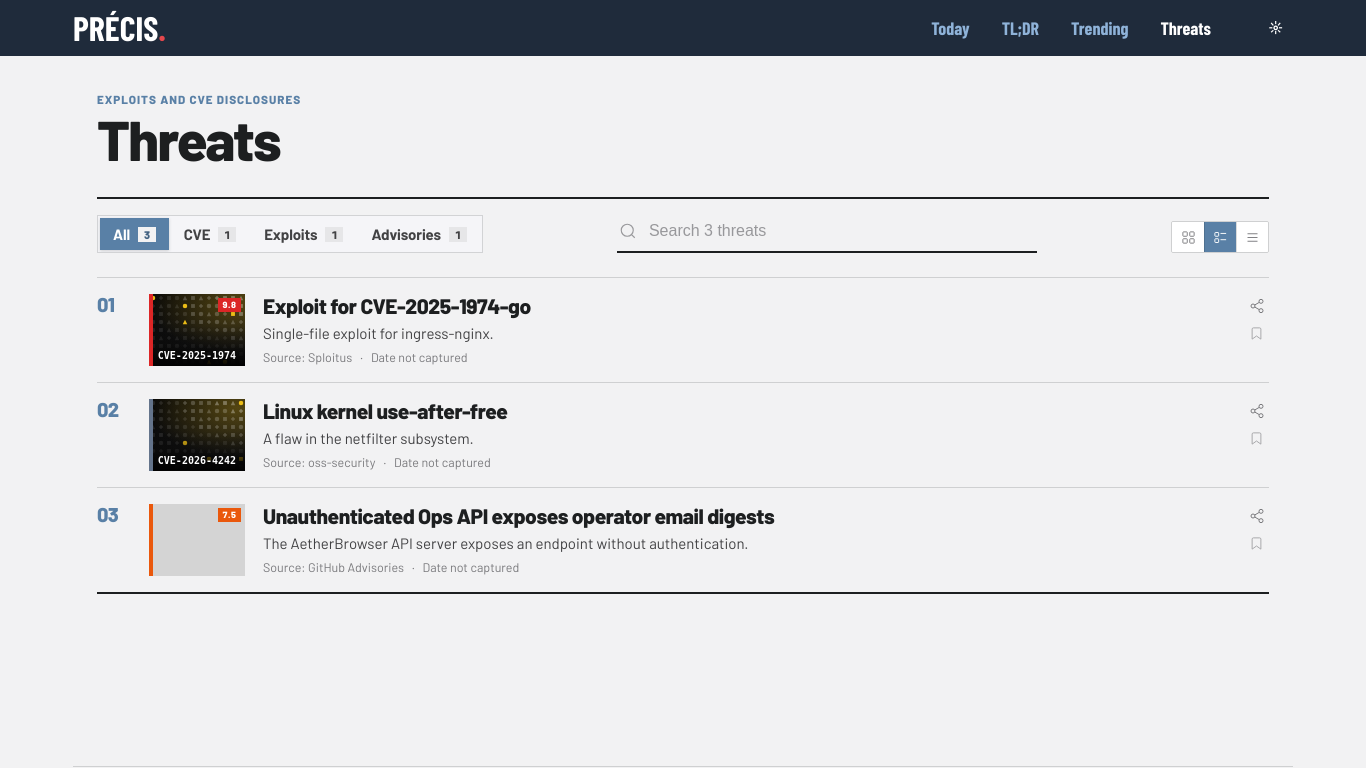
Test: ThreatsPage search › opens on the list layout and switches to cards and small list
Expected: the link "Linux kernel use-after-free" is shown, [263,398,508,423]
Expected: the element with class "brief-list" is shown, [97,277,1269,594]
Click the button named "Cards" at [1188, 237], box [1172,222,1204,252]
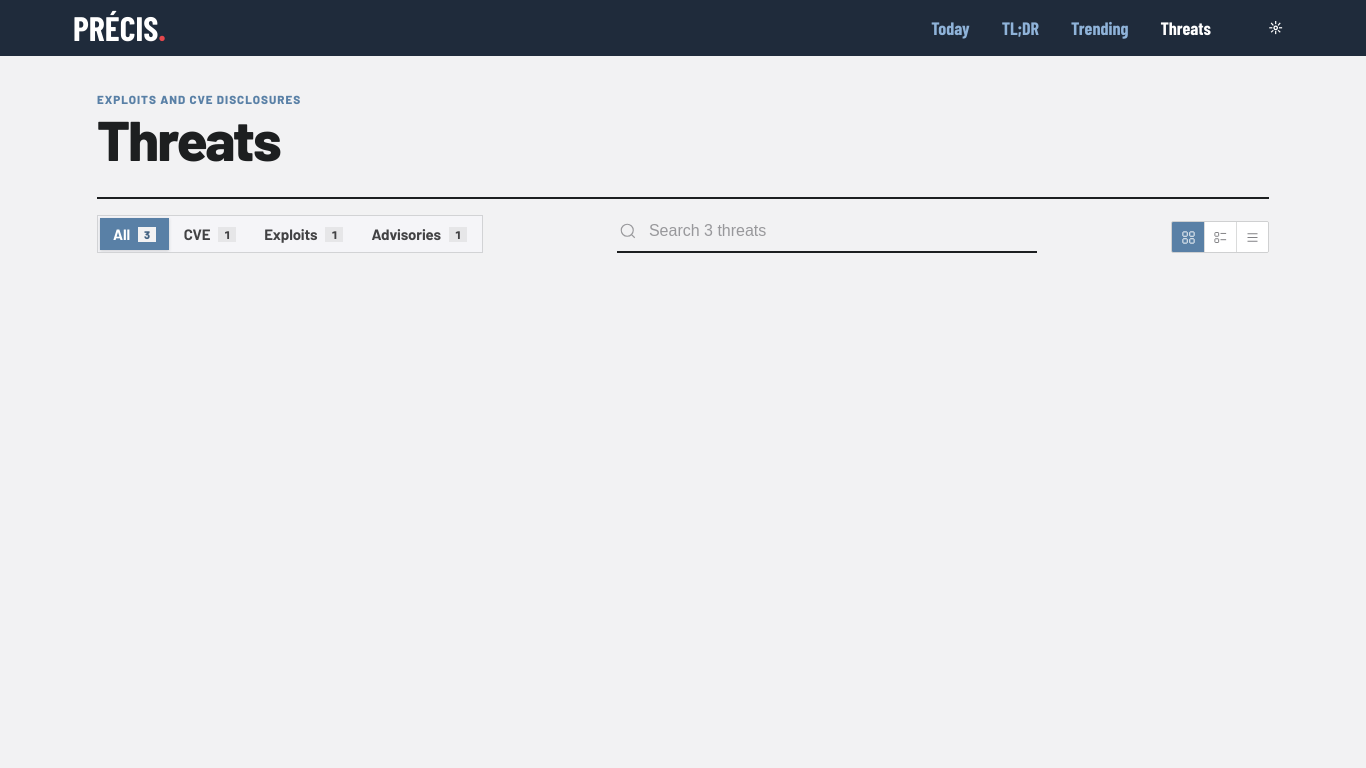
Now the element with class "brief-list" is gone
Click the button named "Small list" at [1252, 237], box [1236,222,1268,252]
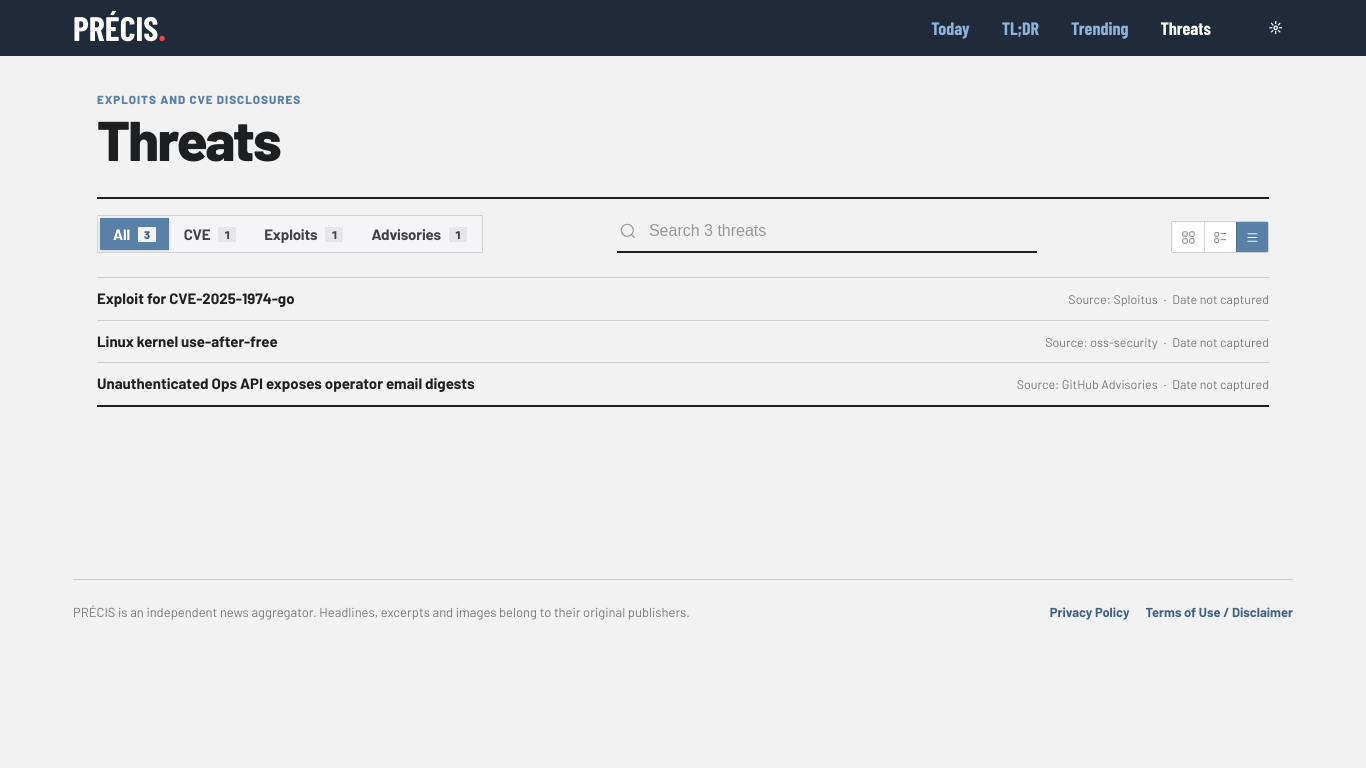
Now the list with class "small-list" is shown, box [97,277,1269,406]
